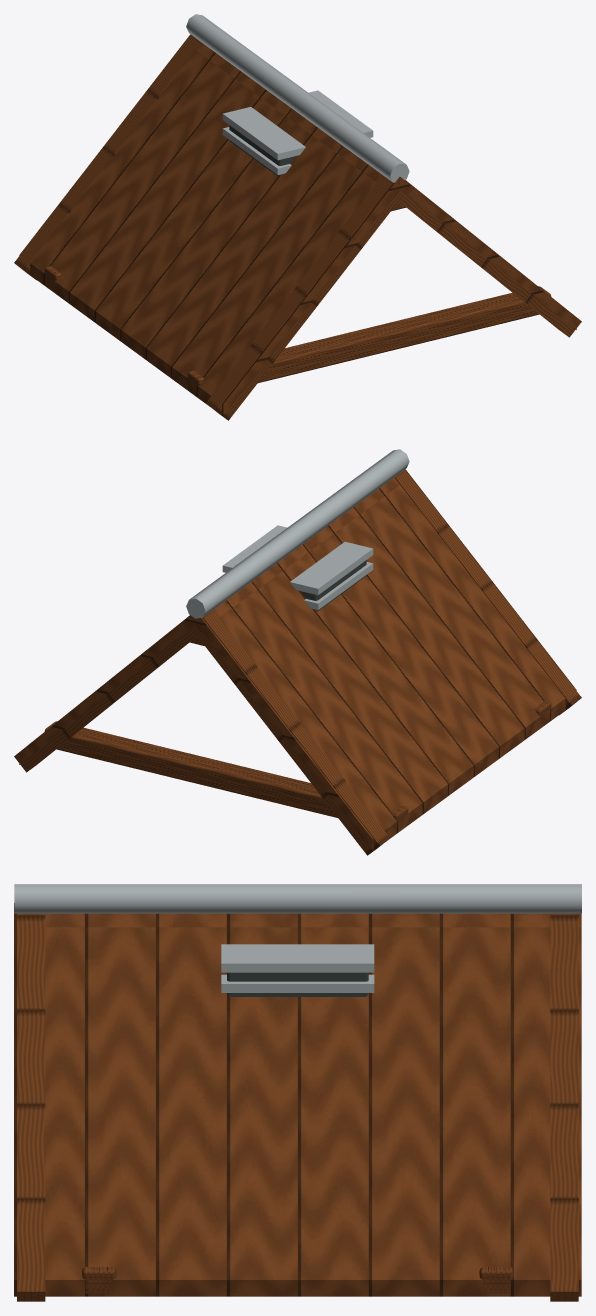
Rendered from modular-survival-base-builder-roof-vented-ridge-2a1b8e57__24182.glb.
The picture shows the model from 3 angles, top to bottom: view 1: azimuth 30°, elevation 25°; view 2: azimuth 150°, elevation 25°; view 3: azimuth 270°, elevation 25°; orthographic projection. The views are drawn at different scales.
Visible parts, largest first — view 1: roof-vented-ridge; view 2: roof-vented-ridge; view 3: roof-vented-ridge.
Part boxes in pixels (x1=…): roof-vented-ridge: x1=14, y1=14, x2=581, y2=420; roof-vented-ridge: x1=14, y1=449, x2=581, y2=855; roof-vented-ridge: x1=14, y1=884, x2=581, y2=1301.
Bounding box in the file's own units: 2.07 × 1.17 × 2.
Materials: 3 (1 with a texture image).
